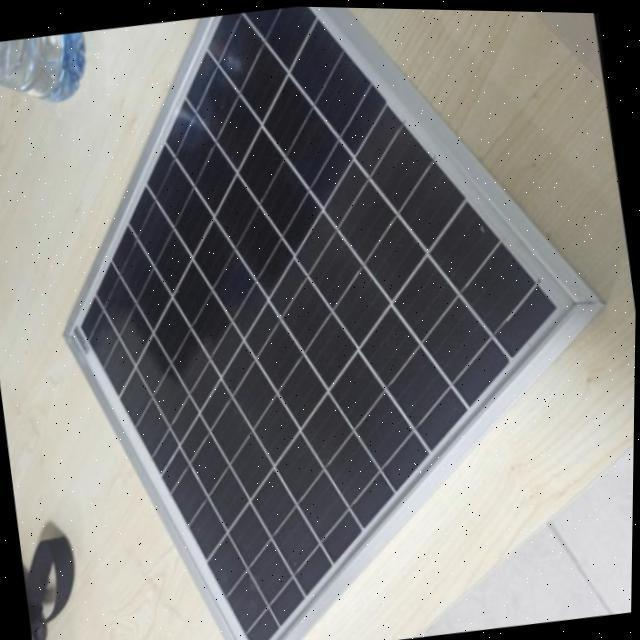Normal Solar Panel: (25, 1, 630, 640)
